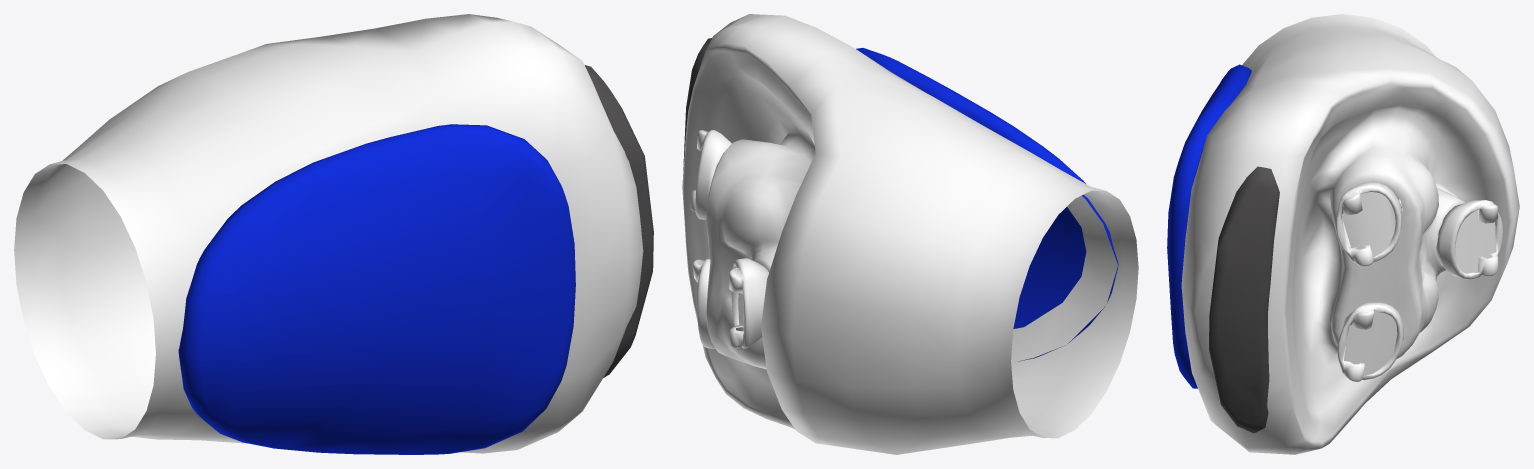
Rendered from LWristYaw.dae.
3 renders of one model, left to right at view 1: azimuth 30°, elevation 25°; view 2: azimuth 150°, elevation 25°; view 3: azimuth 270°, elevation 25°, orthographic. The views are drawn at different scales.
Parts seen in each view (by area): view 1: RWristYaw; view 2: RWristYaw; view 3: RWristYaw.
Part boxes in pixels (bbox=[...]): RWristYaw: bbox=[14, 14, 653, 454]; RWristYaw: bbox=[682, 14, 1138, 454]; RWristYaw: bbox=[1167, 14, 1519, 454].
Size of the model in its own units: 0.8481 by 0.6829 by 0.63.
1 material, 1 textured.
